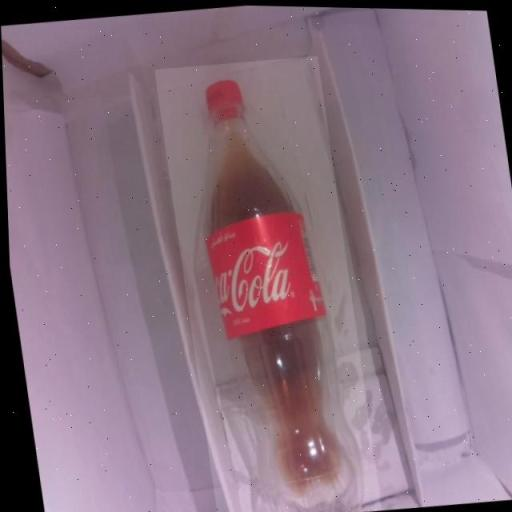plastic: (176, 66, 366, 512)
